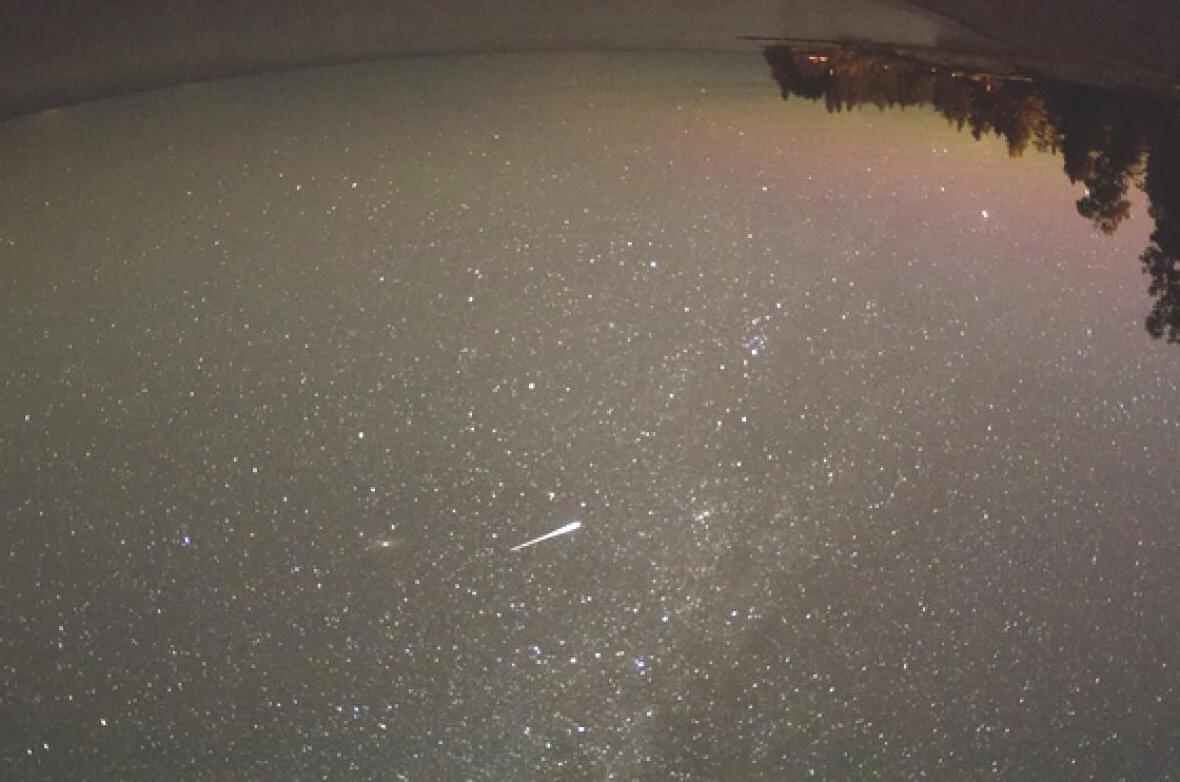meteorite: (463, 510, 627, 557)
